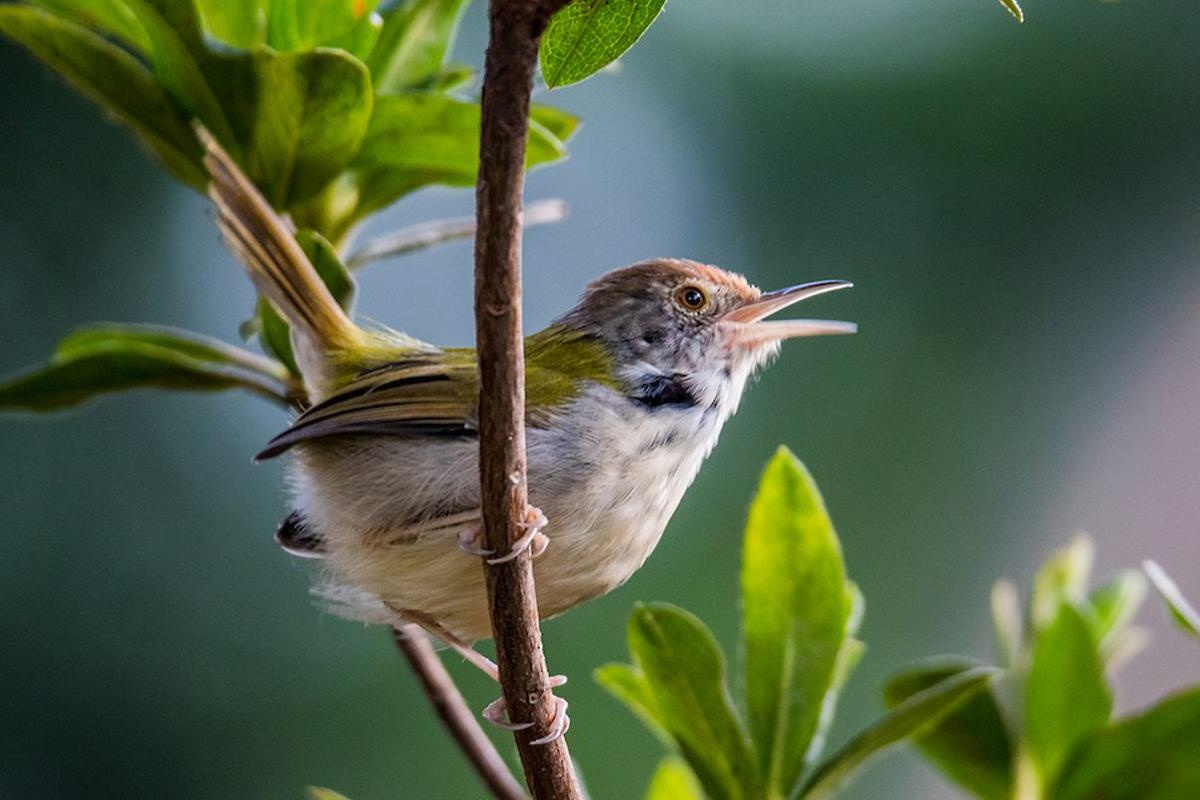tailorbird: (304, 181, 851, 670)
